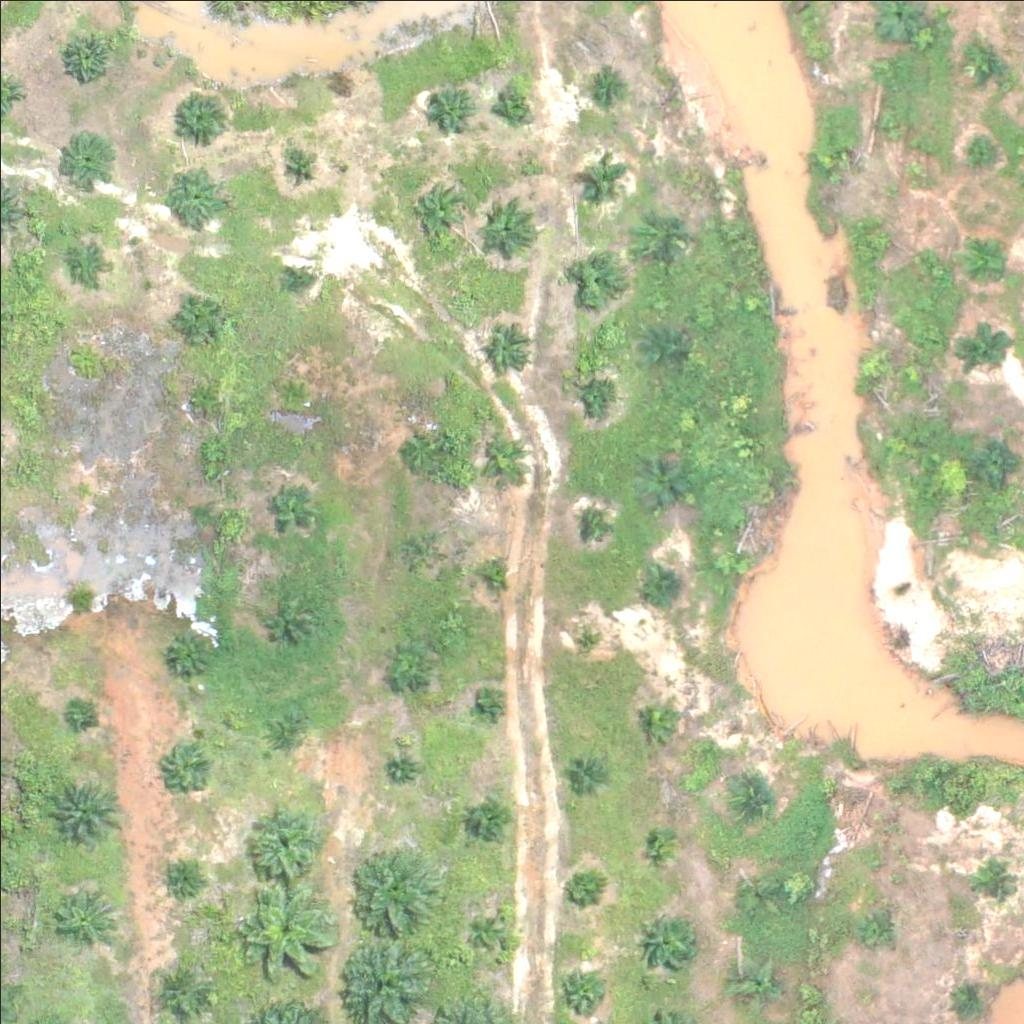Kelapa_Sawit: (235, 885, 335, 986), (240, 797, 328, 885), (349, 848, 437, 936), (47, 773, 122, 849), (408, 178, 471, 241), (52, 884, 114, 947), (169, 82, 231, 145), (165, 164, 227, 227), (636, 907, 698, 970), (475, 196, 537, 259), (391, 425, 441, 476), (61, 132, 111, 183), (64, 31, 114, 82), (171, 295, 221, 346), (962, 37, 1012, 88), (478, 431, 528, 482), (632, 692, 682, 743), (729, 959, 779, 1010), (157, 968, 207, 1018), (570, 361, 620, 411), (572, 252, 622, 302), (483, 319, 533, 369), (423, 83, 473, 133), (958, 318, 1008, 368), (960, 228, 1010, 278), (163, 739, 213, 789), (160, 625, 210, 675), (263, 486, 313, 536), (263, 593, 313, 643), (256, 707, 306, 757), (383, 637, 433, 687), (464, 797, 514, 847), (636, 453, 686, 503), (967, 433, 1017, 483), (461, 906, 511, 956), (556, 970, 606, 1020), (634, 202, 684, 252), (70, 239, 108, 277), (585, 159, 623, 197), (584, 68, 622, 106), (497, 85, 535, 123), (871, 108, 909, 146), (861, 221, 899, 259), (855, 346, 893, 384), (644, 564, 682, 602), (279, 148, 316, 186), (808, 146, 845, 184), (274, 373, 312, 410), (400, 528, 438, 565), (641, 821, 679, 858), (645, 326, 682, 364), (976, 857, 1013, 895), (734, 875, 772, 912), (562, 872, 599, 910), (182, 378, 219, 416), (962, 128, 999, 165), (566, 749, 603, 786), (734, 777, 771, 814), (954, 985, 991, 1022), (857, 907, 894, 944), (68, 700, 93, 726), (285, 264, 310, 289), (477, 691, 502, 716), (484, 561, 509, 586), (572, 622, 597, 647), (578, 510, 603, 535), (167, 865, 192, 890), (69, 474, 94, 499), (390, 755, 414, 780)
